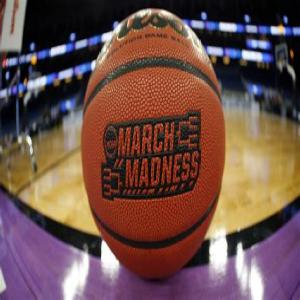Basket: (80, 6, 225, 282)
